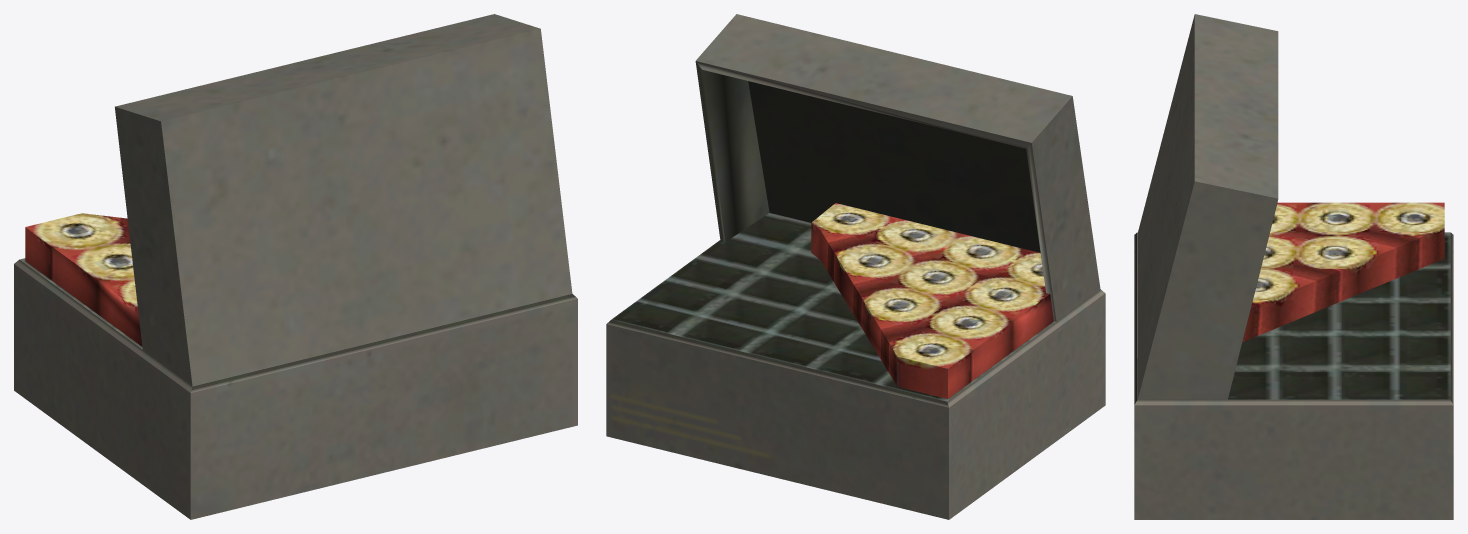
The model's file is Pickup_Shotgunbullets1.glb.
3 views of the same model, side by side, from view 1: azimuth 30°, elevation 25°; view 2: azimuth 150°, elevation 25°; view 3: azimuth 270°, elevation 25° (orthographic). The views are drawn at different scales.
Parts seen in each view (by area): view 1: pk_Shotgunbullets_1; view 2: pk_Shotgunbullets_1; view 3: pk_Shotgunbullets_1.
Boxes of the visible parts, bbox=[...] form: pk_Shotgunbullets_1: bbox=[14, 14, 577, 519]; pk_Shotgunbullets_1: bbox=[606, 14, 1105, 519]; pk_Shotgunbullets_1: bbox=[1134, 14, 1453, 519].
Size of the model in its own units: 0.4091 by 0.3769 by 0.3235.
1 material, 1 textured.
